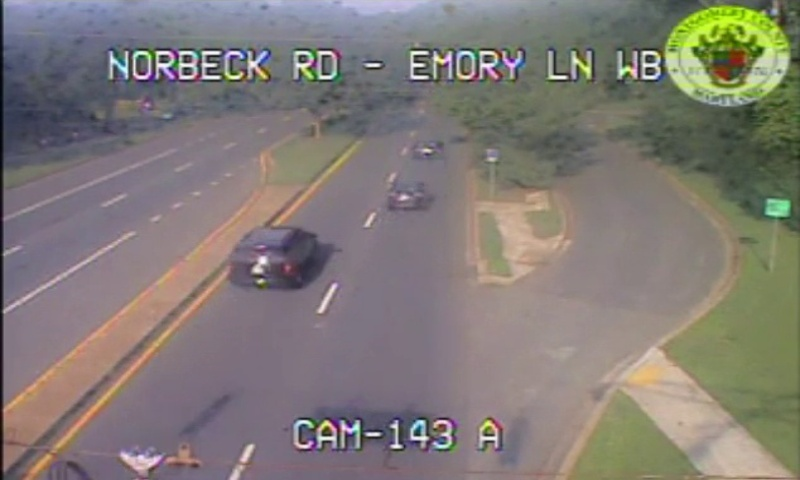car: (231, 226, 317, 287), (387, 183, 426, 209)
